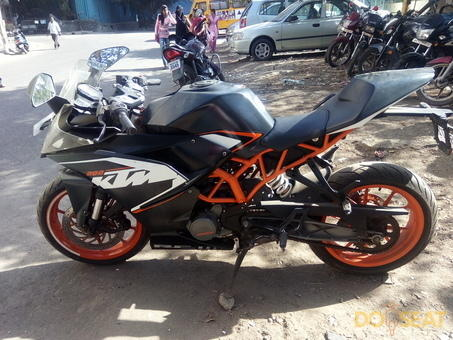bike: (44, 68, 447, 287), (363, 11, 419, 71), (169, 26, 213, 90), (406, 10, 449, 71), (326, 6, 365, 63), (13, 26, 27, 58)
car: (228, 1, 344, 61)
